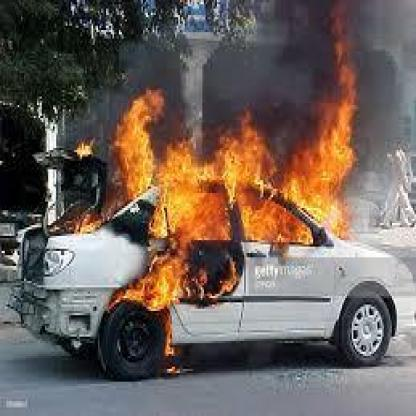fire: (19, 52, 398, 372), (318, 5, 359, 53)
